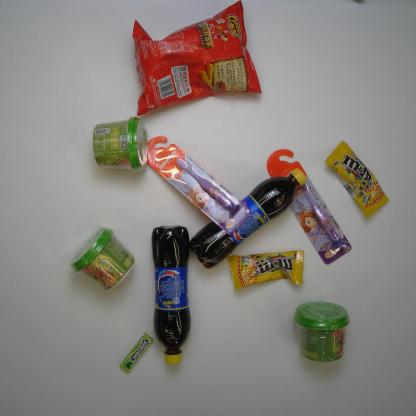Chocolate: (324, 140, 390, 219), (226, 249, 304, 291)
Drink: (185, 163, 314, 272), (150, 224, 192, 365)
Gum: (119, 330, 154, 374)
Instant Drink: (70, 226, 135, 292), (292, 301, 351, 363), (91, 116, 149, 173)
Personal Hygiene: (140, 135, 252, 235), (264, 144, 352, 265)
Puffed Food: (132, 0, 262, 117)
